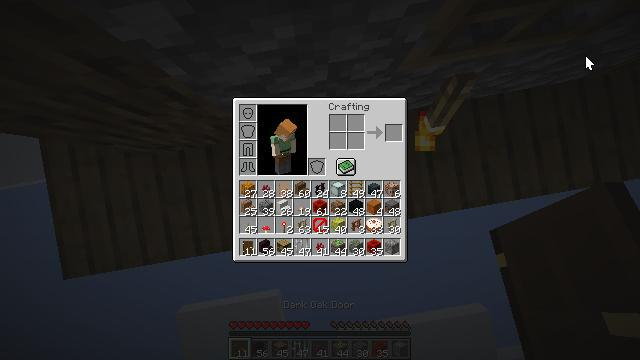cursor: (585, 55, 595, 71)
